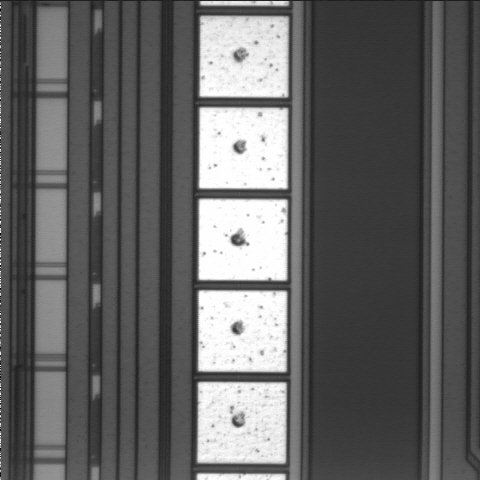pad: (199, 107, 288, 189), (199, 199, 288, 281), (198, 290, 287, 372), (197, 382, 286, 463), (200, 16, 288, 97)
